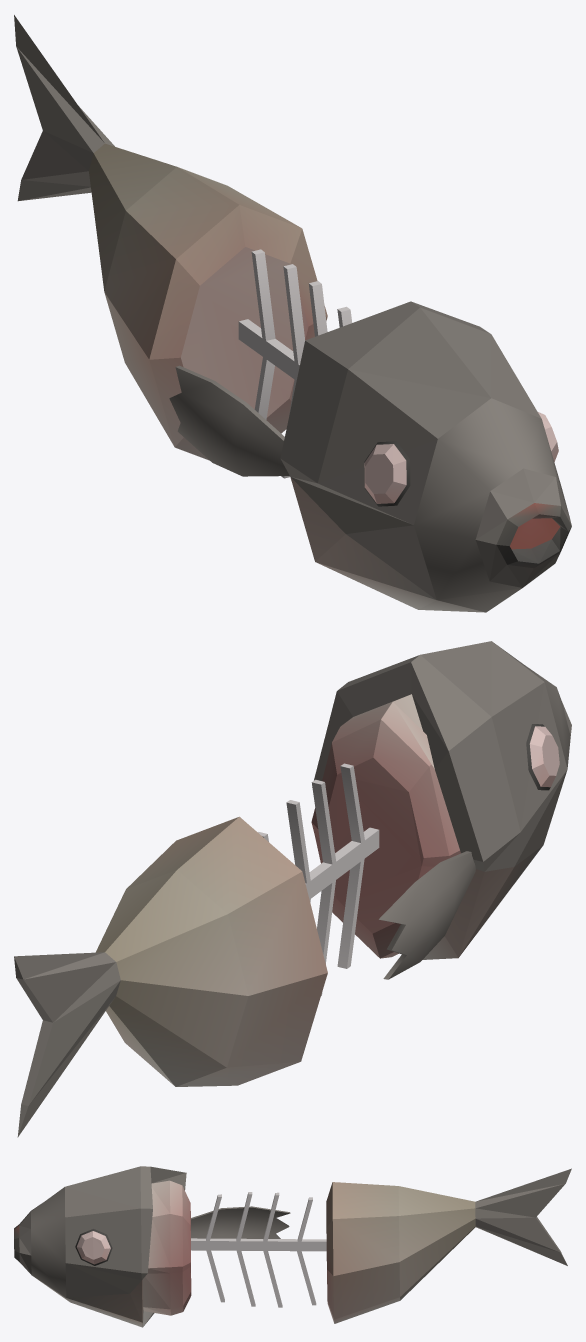
File: BadFish2.FBX
The picture shows the model from 3 angles, top to bottom: view 1: azimuth 30°, elevation 25°; view 2: azimuth 150°, elevation 25°; view 3: azimuth 270°, elevation 25°; orthographic projection. The views are drawn at different scales.
Visible parts, largest first — view 1: BadFish2; view 2: BadFish2; view 3: BadFish2.
Part boxes in pixels (left/top/right/bottom): BadFish2: left=14, top=15, right=571, bottom=612; BadFish2: left=14, top=641, right=571, bottom=1137; BadFish2: left=14, top=1166, right=571, bottom=1327.
Size of the model in its own units: 4.22 by 5.65 by 17.72.
